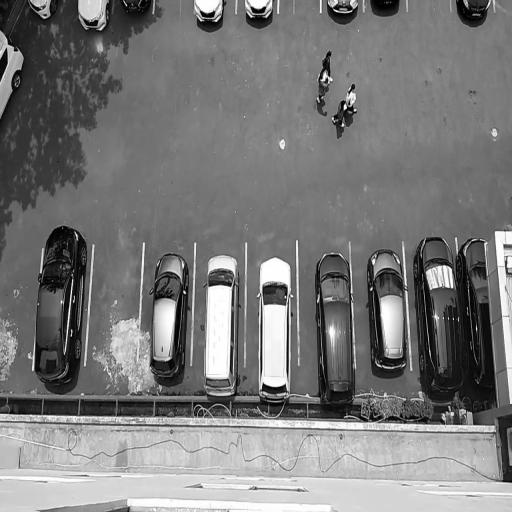Car: (27, 220, 89, 390), (408, 225, 464, 403), (309, 243, 362, 414), (454, 227, 496, 423), (252, 248, 296, 411), (363, 238, 410, 387), (198, 243, 242, 400), (145, 241, 191, 387), (0, 20, 26, 132), (70, 0, 114, 34), (238, 0, 278, 35), (452, 0, 495, 30), (192, 0, 228, 33), (20, 0, 62, 25), (326, 0, 366, 26)
Space Available: (84, 237, 143, 362), (279, 0, 322, 16), (152, 0, 195, 16), (406, 0, 450, 14)
